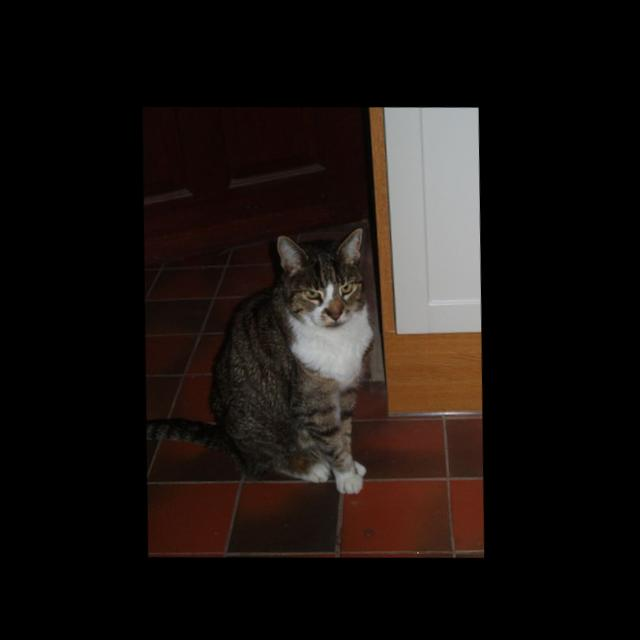animals: (279, 221, 366, 317)
